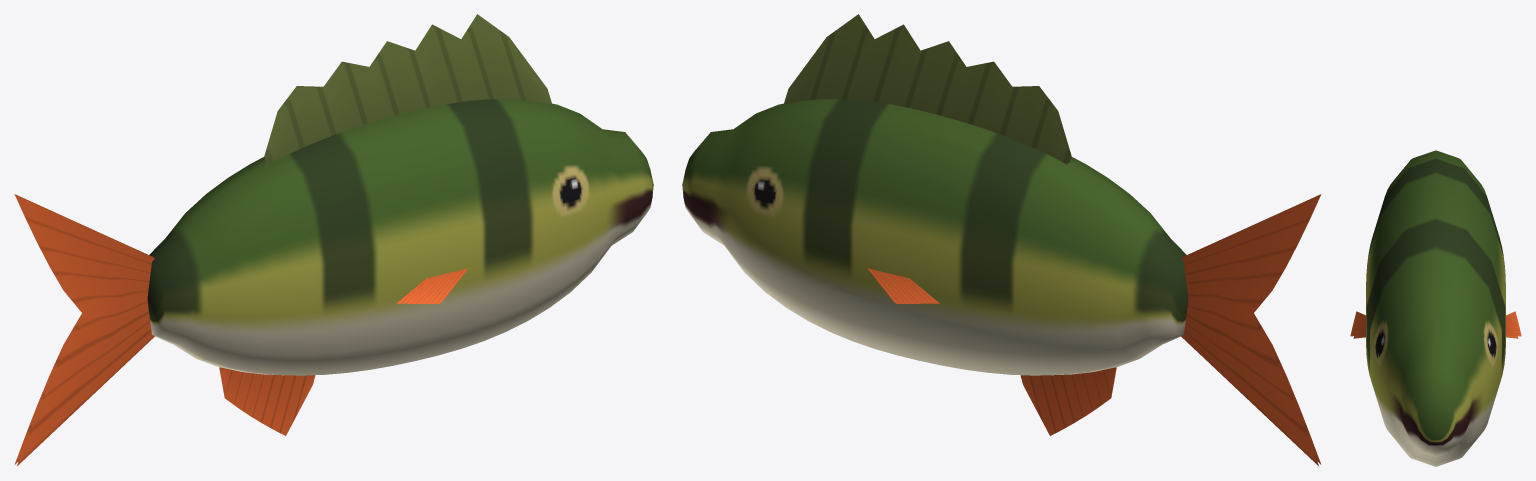
File: Fish_04_Perch.fbx
The picture shows the model from 3 angles, left to right: view 1: azimuth 30°, elevation 25°; view 2: azimuth 150°, elevation 25°; view 3: azimuth 270°, elevation 25°; orthographic projection. The views are drawn at different scales.
Parts seen in each view (by area): view 1: Fish_04_Perch; view 2: Fish_04_Perch; view 3: Fish_04_Perch.
Part boxes in pixels (x1,y1,x2,y2): Fish_04_Perch: (14, 14, 653, 465); Fish_04_Perch: (682, 14, 1321, 465); Fish_04_Perch: (1350, 150, 1521, 466).
Size of the model in its own units: 1.18 by 0.6594 by 0.2984.
